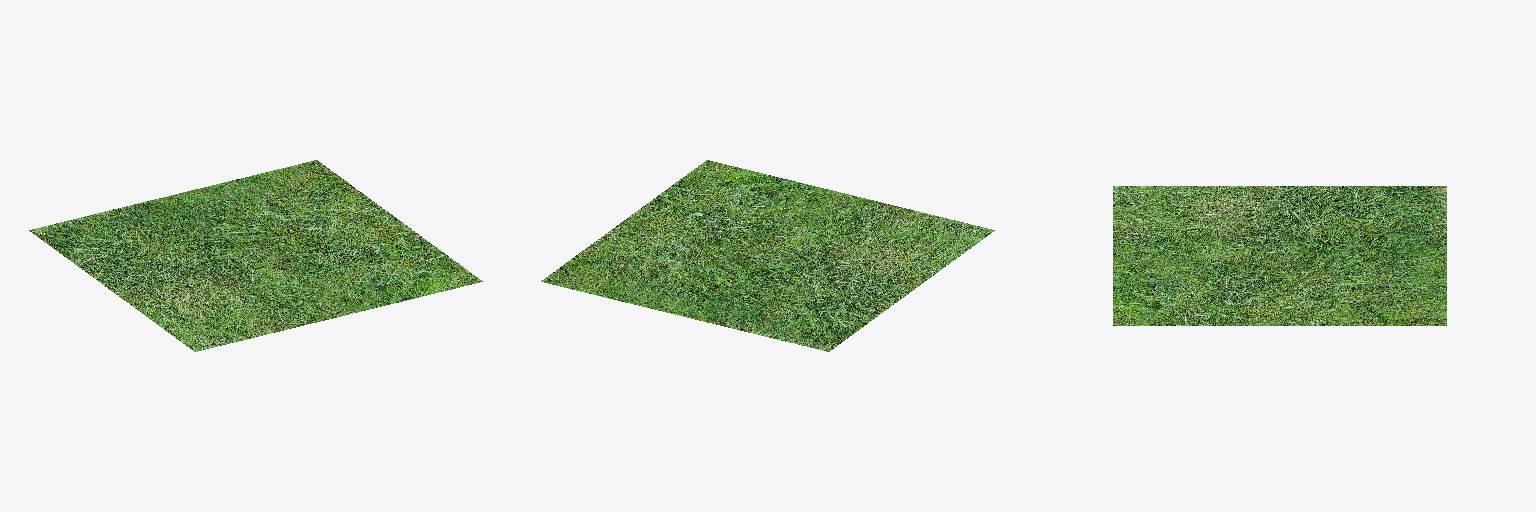
3 views of the same model, side by side, from view 1: azimuth 30°, elevation 25°; view 2: azimuth 150°, elevation 25°; view 3: azimuth 270°, elevation 25° (orthographic).
Visible parts, largest first — view 1: pPlane1; view 2: pPlane1; view 3: pPlane1.
Part boxes in pixels (x1,y1,x2,y2): pPlane1: (29,160,482,351); pPlane1: (541,160,994,351); pPlane1: (1113,186,1446,325).
Size of the model in its own units: 200 by 0 by 200.
Materials: 1 (1 with a texture image).